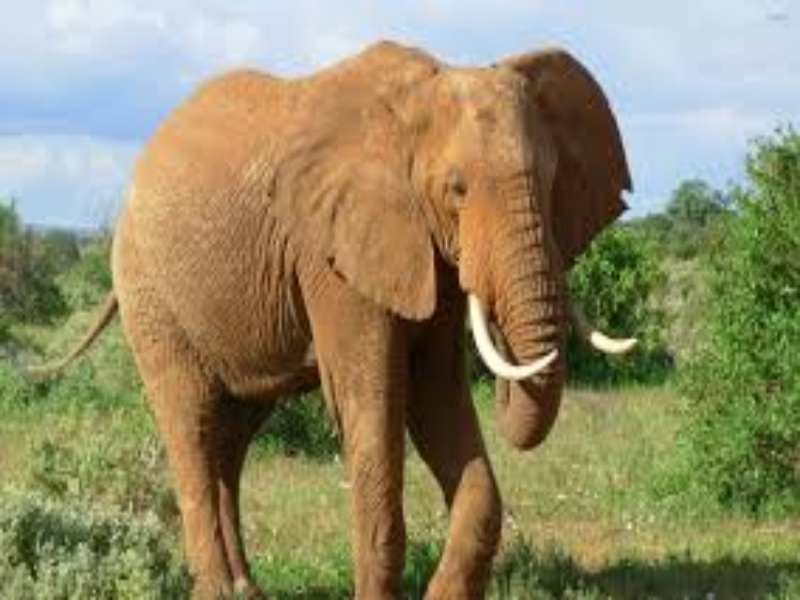elephant: (53, 38, 661, 596)
